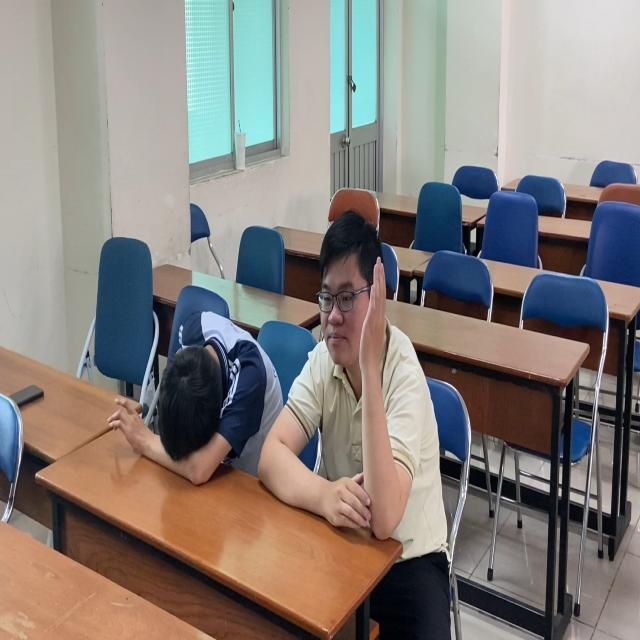raise_hand: (295, 212, 426, 547)
sleep: (107, 300, 280, 497)
